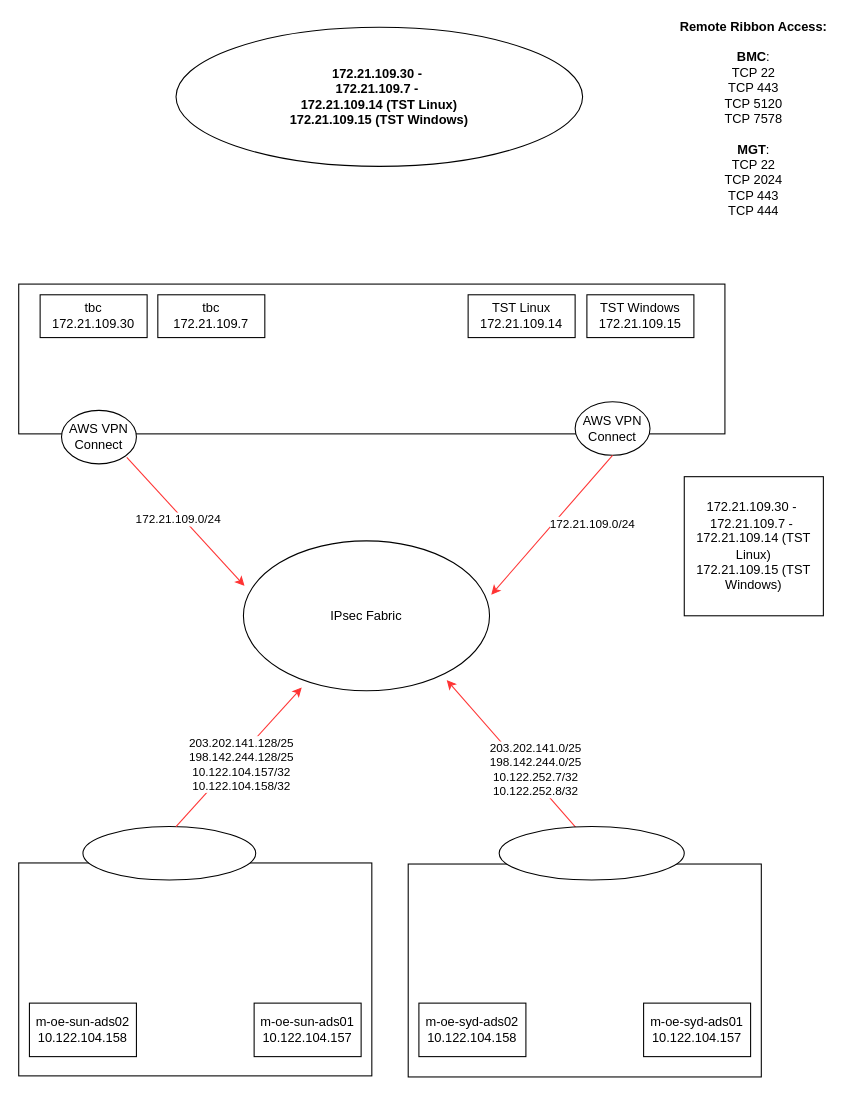
Some shapes in this 847 by 1096 pixel diagram are drawn without their labels. The shapes that lost their labels are listed below. From the top down, each one's box as (x1, y1, x2, y2) in pixels, then its label:
(18, 283, 725, 434): AWS Services Australia LZ (DEV)
(82, 826, 256, 880): m-obemc-vic-sun-vpn-r01
(498, 826, 684, 880): m-obemc-nsw-syd-vpn-r01
(18, 862, 372, 1076): Sunshine
(407, 863, 761, 1077): Mascot
